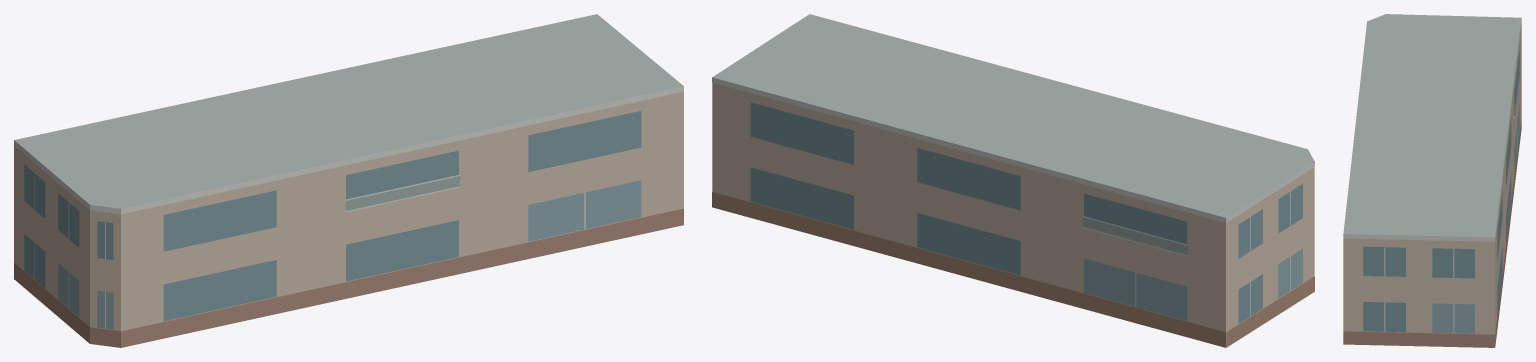
Rendered from survey-upis-32564803.glb.
The picture shows the model from 3 angles, left to right: view 1: azimuth 30°, elevation 25°; view 2: azimuth 150°, elevation 25°; view 3: azimuth 270°, elevation 25°; orthographic projection. The views are drawn at different scales.
Visible parts, largest first — view 1: survey-upis-32564803.tmp; view 2: survey-upis-32564803.tmp; view 3: survey-upis-32564803.tmp.
Part boxes in pixels (x1=…): survey-upis-32564803.tmp: x1=14, y1=14, x2=683, y2=347; survey-upis-32564803.tmp: x1=712, y1=14, x2=1314, y2=347; survey-upis-32564803.tmp: x1=1343, y1=14, x2=1521, y2=347.
Bounding box in the file's own units: 26.45 × 6.1 × 8.93.
